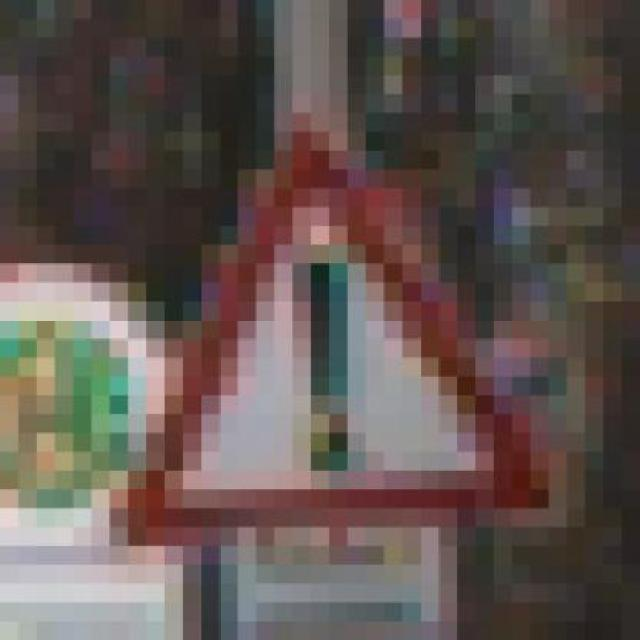Attention Please-: (92, 93, 586, 564)
